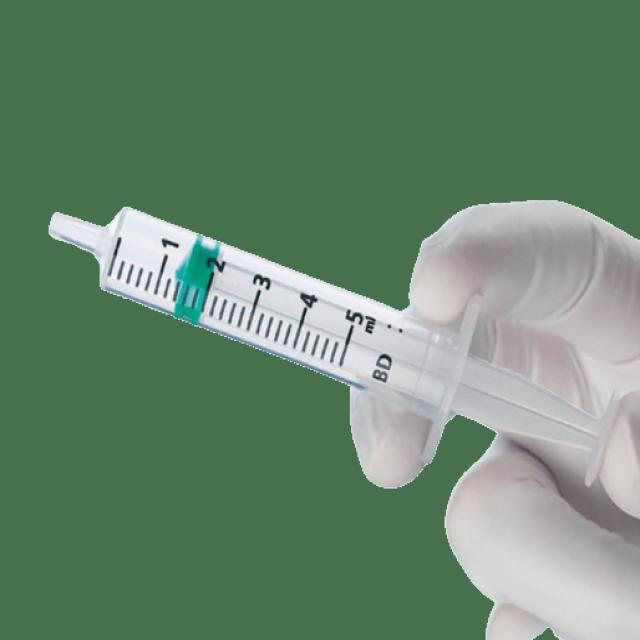syringe: (46, 202, 636, 508)
